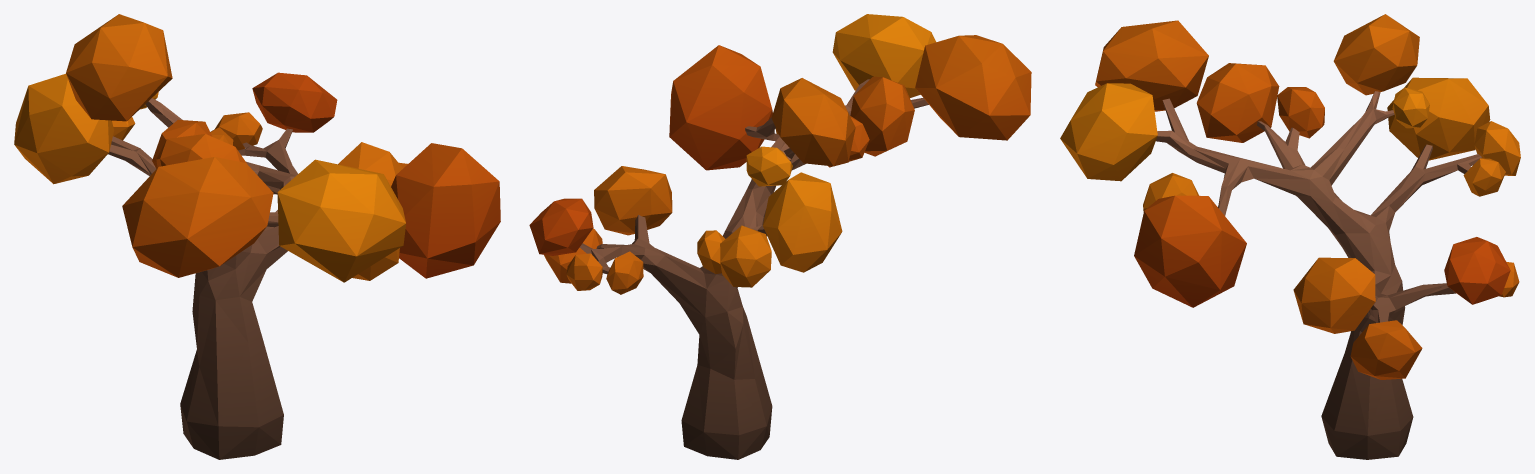
Rendered from autumn tree 6.fbx.
3 views of the same model, side by side, from view 1: azimuth 30°, elevation 25°; view 2: azimuth 150°, elevation 25°; view 3: azimuth 270°, elevation 25° (orthographic). The views are drawn at different scales.
Parts seen in each view (by area): view 1: autumn tree 6; view 2: autumn tree 6; view 3: autumn tree 6.
Boxes of the visible parts, bbox=[...] form: autumn tree 6: bbox=[14, 14, 500, 459]; autumn tree 6: bbox=[529, 14, 1031, 459]; autumn tree 6: bbox=[1060, 14, 1520, 459].
Size of the model in its own units: 982 by 977 by 1071.
